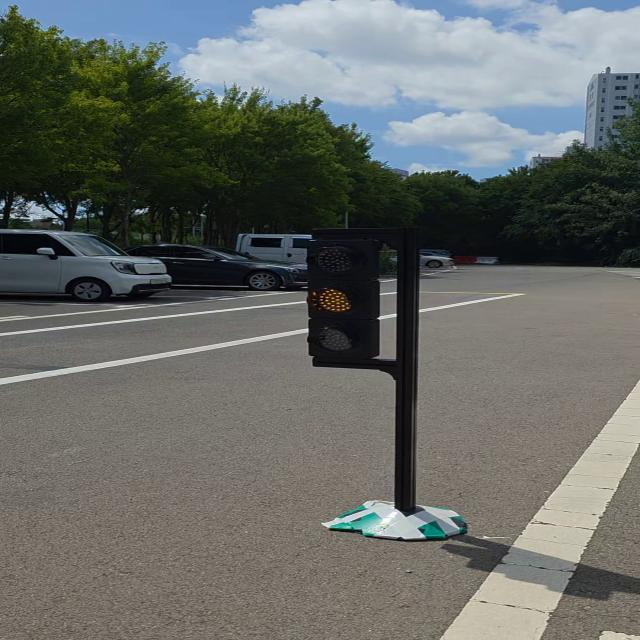yellow: (299, 229, 384, 372)
